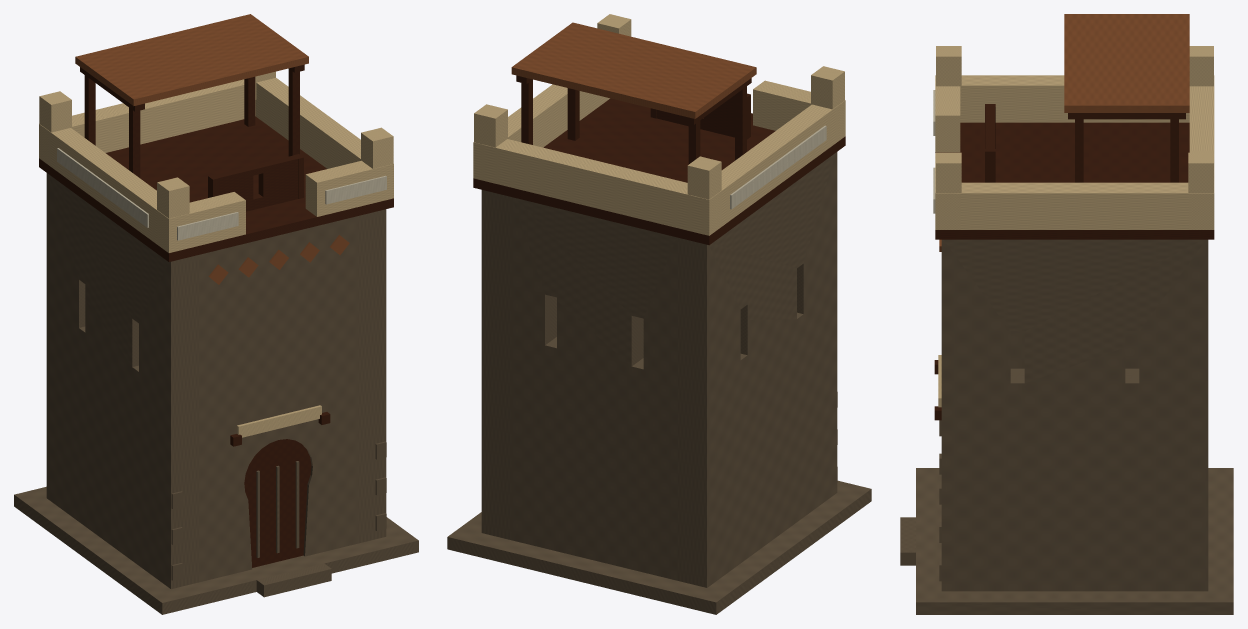
The model's file is Berber_Outpost_Age3_arrowslits_stone.fbx.
3 views of the same model, side by side, from view 1: azimuth 30°, elevation 25°; view 2: azimuth 150°, elevation 25°; view 3: azimuth 270°, elevation 25° (orthographic). The views are drawn at different scales.
Parts seen in each view (by area): view 1: fortified_stone_side, fortified_stone_face, lookout_floor, fitted_flat_canopy, tower_foundation, fortified_stone_side.001, lookout_parapet_back, horseshoe_door.001, lookout_parapet_side.001, lookout_parapet_side, arrow_shield_panel, lookout_parapet_front.001 (+13 smaller); view 2: fortified_stone_face.001, fortified_stone_side, fitted_flat_canopy, tower_foundation, lookout_floor, lookout_parapet_back, fortified_stone_side.001, lookout_parapet_side, lookout_parapet_side.001, lookout_parapet_front, neutral_owner_side_band, corner_merlon.001 (+6 smaller); view 3: fortified_stone_side.001, lookout_floor, tower_foundation, fitted_flat_canopy, lookout_parapet_side.001, lookout_parapet_side, lookout_parapet_back, lookout_parapet_front, fortified_stone_side, corner_merlon, corner_merlon.002, corner_merlon.003 (+6 smaller).
Part boxes in pixels (box(x1,y1,x2,y2)): fortified_stone_side: box(46, 173, 198, 589); fortified_stone_face: box(198, 216, 358, 582); lookout_floor: box(39, 116, 393, 261); fitted_flat_canopy: box(75, 14, 308, 105); tower_foundation: box(14, 486, 418, 614); fortified_stone_side.001: box(357, 209, 386, 543); lookout_parapet_back: box(39, 79, 255, 165); horseshoe_door.001: box(244, 439, 311, 567); lookout_parapet_side.001: box(255, 78, 360, 168); lookout_parapet_side: box(50, 128, 162, 244); arrow_shield_panel: box(214, 155, 298, 211); lookout_parapet_front.001: box(305, 160, 393, 216); fortified_stone_face.001: box(510, 197, 677, 580); fortified_stone_side: box(677, 152, 837, 587); fitted_flat_canopy: box(511, 22, 756, 118); tower_foundation: box(447, 480, 871, 614); lookout_floor: box(473, 98, 845, 245); lookout_parapet_back: box(473, 139, 721, 235); fortified_stone_side.001: box(481, 190, 510, 539); lookout_parapet_side: box(715, 104, 839, 226); lookout_parapet_side.001: box(508, 84, 609, 147); lookout_parapet_front: box(753, 80, 845, 139); neutral_owner_side_band: box(730, 125, 826, 209); corner_merlon.001: box(687, 156, 721, 199); fortified_stone_side.001: box(941, 239, 1208, 591); lookout_floor: box(935, 122, 1214, 239); tower_foundation: box(916, 468, 1233, 614); fitted_flat_canopy: box(1064, 14, 1189, 112); lookout_parapet_side.001: box(948, 182, 1201, 229); lookout_parapet_side: box(960, 75, 1189, 122); lookout_parapet_back: box(1189, 75, 1214, 229); lookout_parapet_front: box(935, 75, 960, 152); fortified_stone_side: box(1010, 331, 1139, 368); corner_merlon: box(936, 46, 961, 104); corner_merlon.002: box(936, 152, 961, 192); corner_merlon.003: box(1188, 152, 1213, 192).
Size of the model in its own units: 360 by 610 by 378.
Materials: 5 (5 with a texture image).
